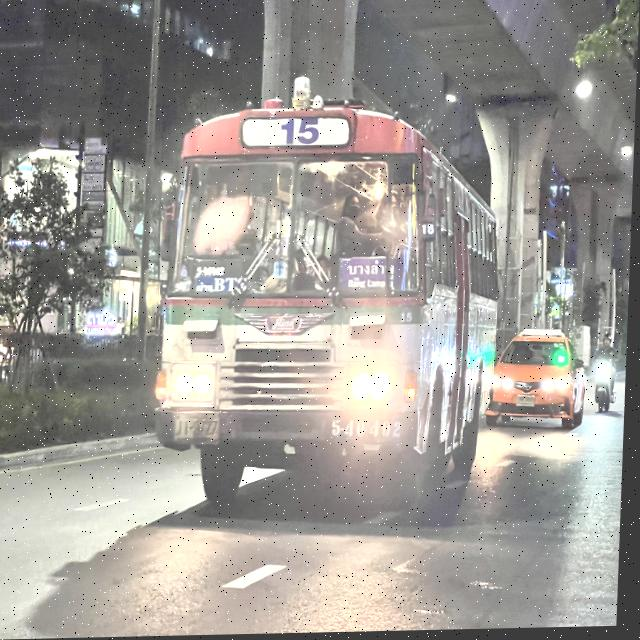BMTA-bus: (147, 64, 511, 531)
Bus-Line-Number: (241, 118, 355, 151)
Destination-Sign-Normal: (338, 259, 406, 295)
